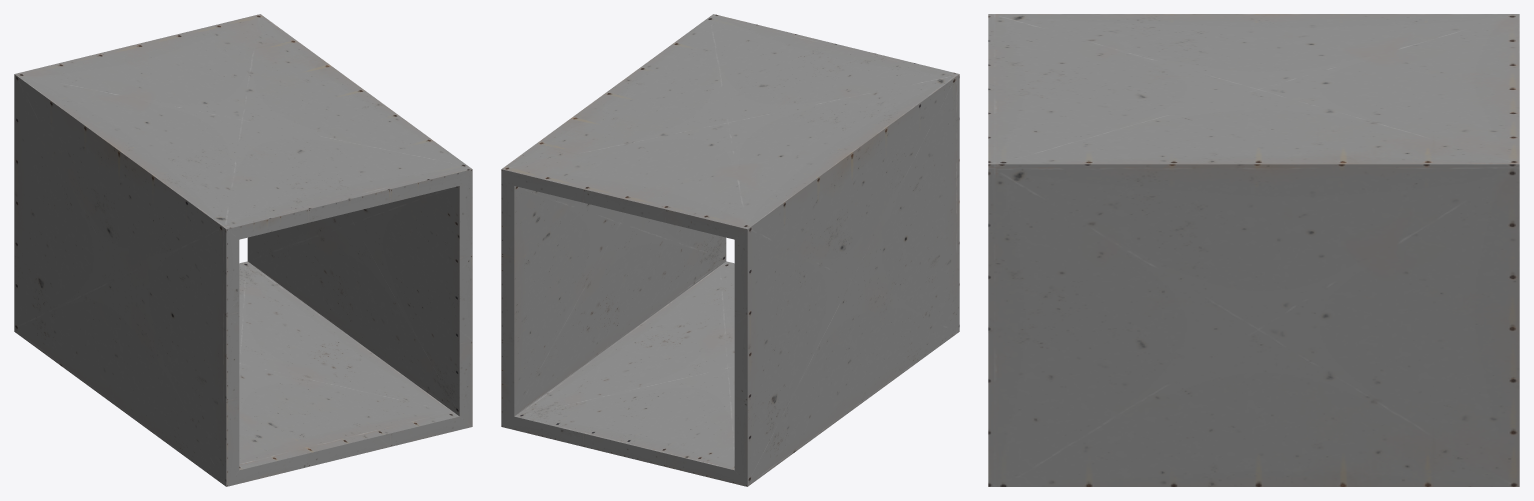
File: Air_Duct_Straight.fbx
3 views of the same model, side by side, from view 1: azimuth 30°, elevation 25°; view 2: azimuth 150°, elevation 25°; view 3: azimuth 270°, elevation 25° (orthographic). The views are drawn at different scales.
Visible parts, largest first — view 1: Air_Duct_Straight; view 2: Air_Duct_Straight; view 3: Air_Duct_Straight.
Part boxes in pixels (x1,y1,x2,y2): Air_Duct_Straight: [14, 14, 472, 486]; Air_Duct_Straight: [501, 14, 959, 486]; Air_Duct_Straight: [988, 14, 1519, 486].
Size of the model in its own units: 134 by 134 by 200.
